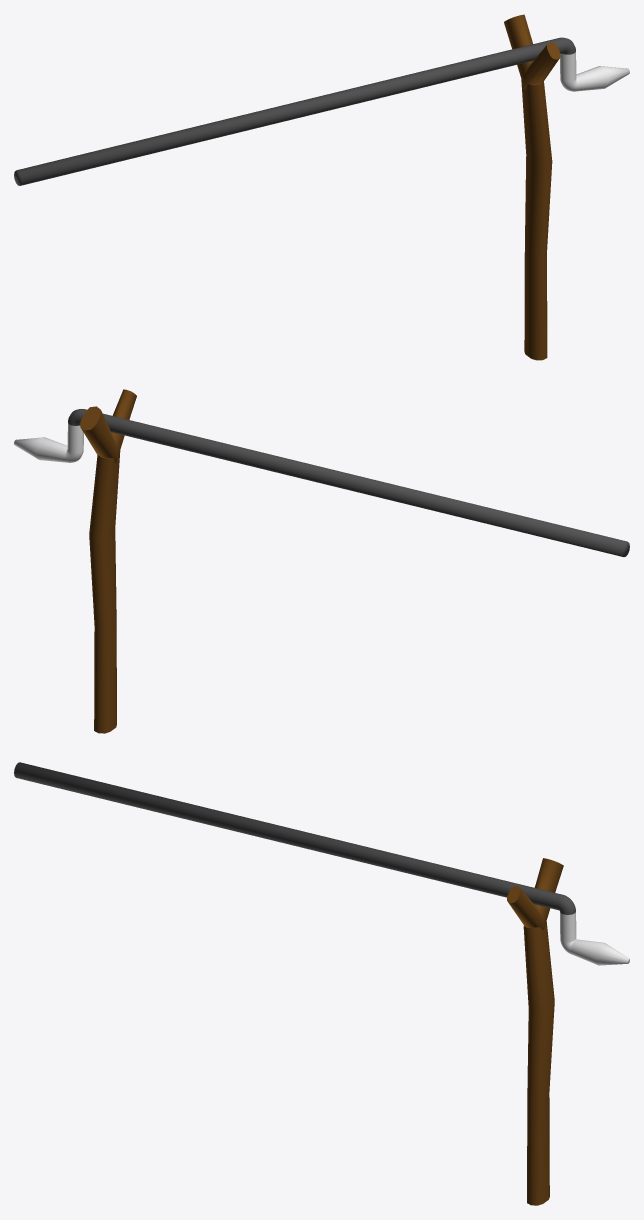
The model's file is Grill.fbx.
The picture shows the model from 3 angles, top to bottom: view 1: azimuth 30°, elevation 25°; view 2: azimuth 150°, elevation 25°; view 3: azimuth 330°, elevation 25°; orthographic projection.
Parts seen in each view (by area): view 1: Grill, Grill_3, Grill_2, Grill_1; view 2: Grill, Grill_3, Grill_2, Grill_1; view 3: Grill, Grill_3, Grill_2.
Part boxes in pixels (x1,y1,x2,y2): Grill: (14,37,575,185); Grill_3: (504,14,560,360); Grill_2: (576,66,629,91); Grill_1: (560,52,578,91); Grill: (68,409,629,556); Grill_3: (80,389,136,733); Grill_2: (14,437,67,462); Grill_1: (65,423,83,462); Grill: (14,762,575,914); Grill_3: (507,858,563,1205); Grill_2: (571,939,629,965).
Bounding box in the file's own units: 2.4 × 0.3355 × 1.24.
